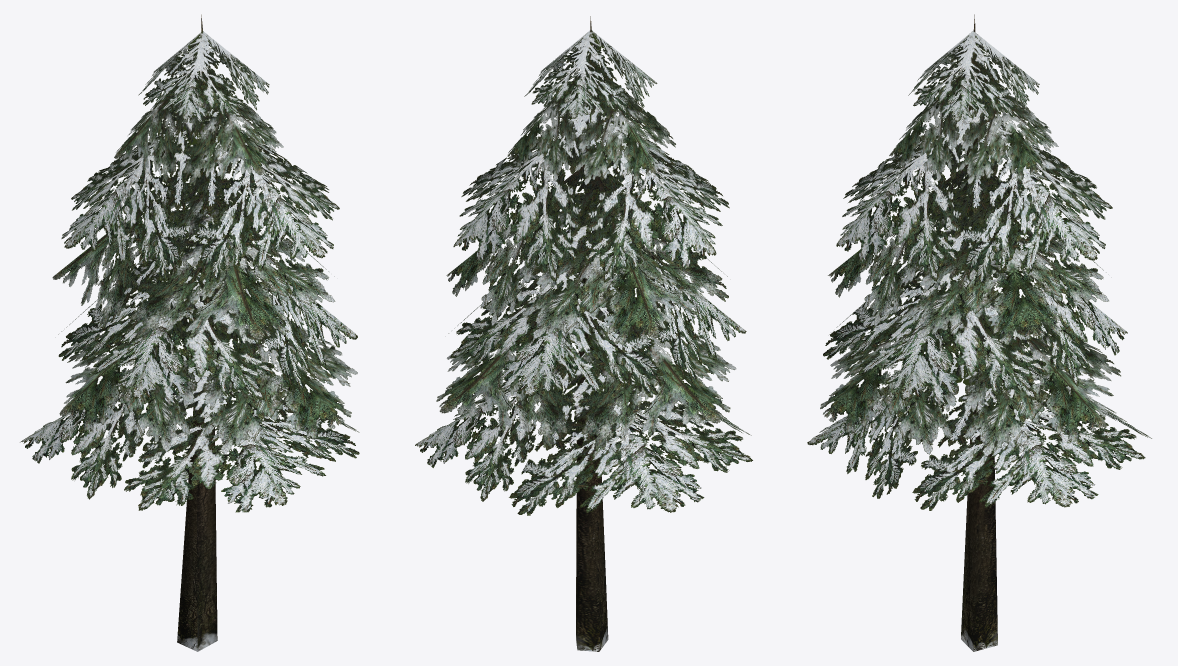
Rendered from Snow_Tree01.FBX.
The picture shows the model from 3 angles, left to right: view 1: azimuth 30°, elevation 25°; view 2: azimuth 150°, elevation 25°; view 3: azimuth 270°, elevation 25°; orthographic projection.
Parts seen in each view (by area): view 1: Snow_Tree01; view 2: Snow_Tree01; view 3: Snow_Tree01.
Part boxes in pixels (x1,y1,x2,y2): Snow_Tree01: (20,14,359,651); Snow_Tree01: (415,16,752,651); Snow_Tree01: (807,14,1151,651).
Bounding box in the file's own units: 1135 × 2323 × 1217.
